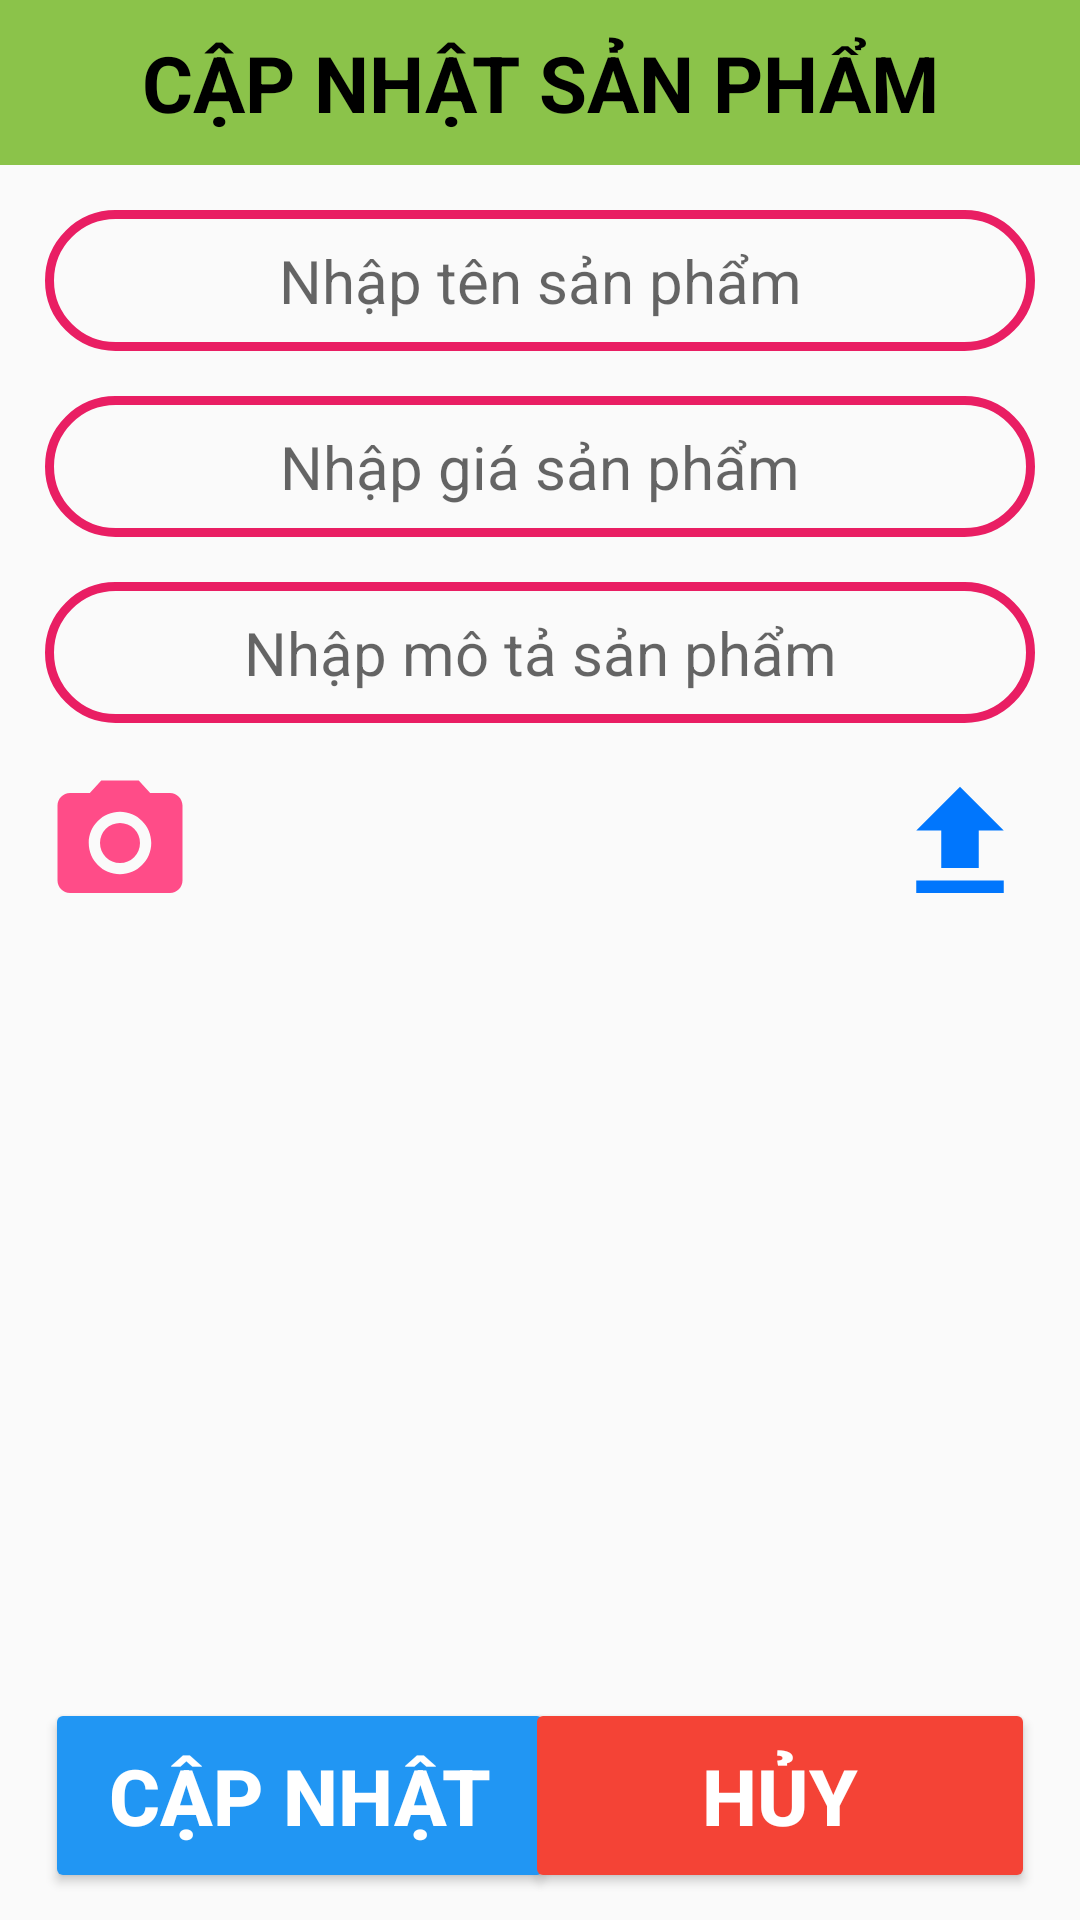

Icon bounding boxes for this 1080px x 1920px phone screenshot, format (x1, y1, x2, y2):
camera: (57, 780, 183, 893)
file upload: (916, 787, 1004, 893)
